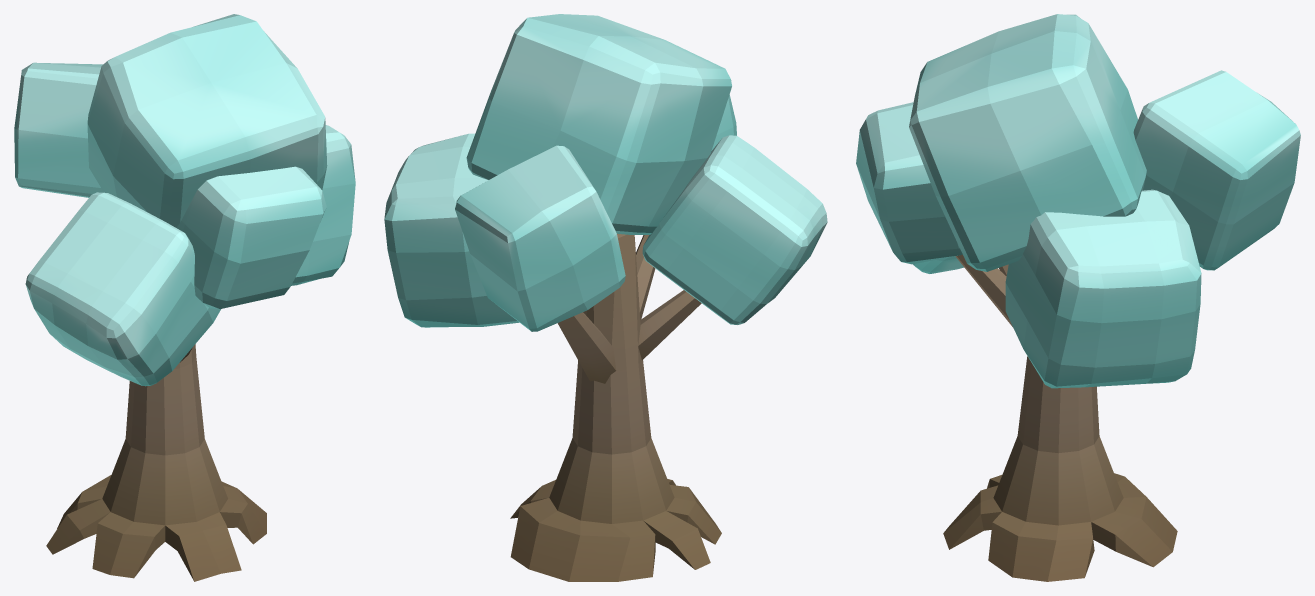
Rendered from Tree_Cube_Winter_Small.fbx.
3 renders of one model, left to right at view 1: azimuth 30°, elevation 25°; view 2: azimuth 150°, elevation 25°; view 3: azimuth 270°, elevation 25°, orthographic. The views are drawn at different scales.
Parts seen in each view (by area): view 1: Tree_Cube_Winter_Small; view 2: Tree_Cube_Winter_Small; view 3: Tree_Cube_Winter_Small.
Part boxes in pixels (x1,y1,x2,y2): Tree_Cube_Winter_Small: (14,14,355,581); Tree_Cube_Winter_Small: (384,14,827,581); Tree_Cube_Winter_Small: (856,14,1300,581).
Bounding box in the file's own units: 245 × 322 × 252.
